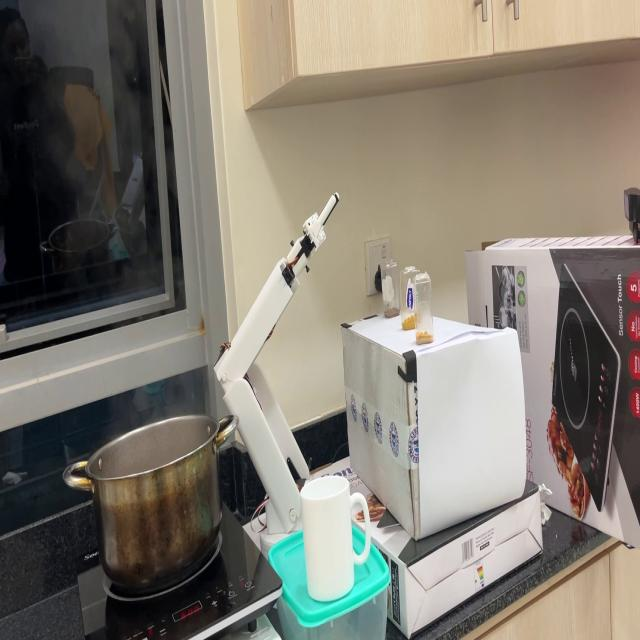cooking_pot: (62, 412, 240, 586)
curry_powder: (400, 311, 418, 328)
garlic_powder: (415, 332, 434, 346)
maggie_open: (384, 305, 398, 320)
